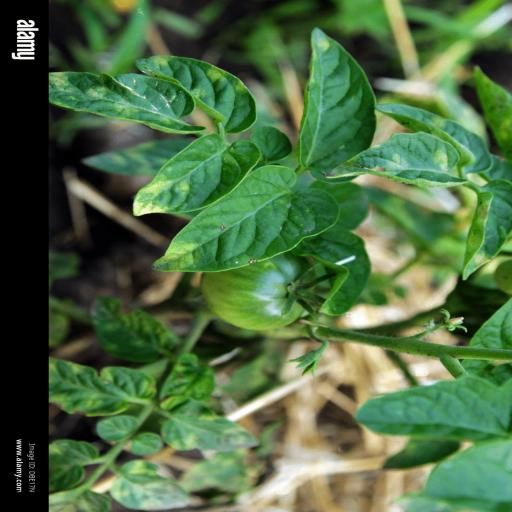disease_tomato: (149, 164, 342, 276), (297, 26, 377, 185), (130, 132, 264, 218), (48, 70, 208, 136), (132, 55, 258, 135), (371, 102, 495, 174), (322, 132, 468, 189), (48, 356, 158, 418), (158, 392, 264, 454), (90, 295, 178, 364), (458, 180, 512, 282), (108, 458, 208, 512)
